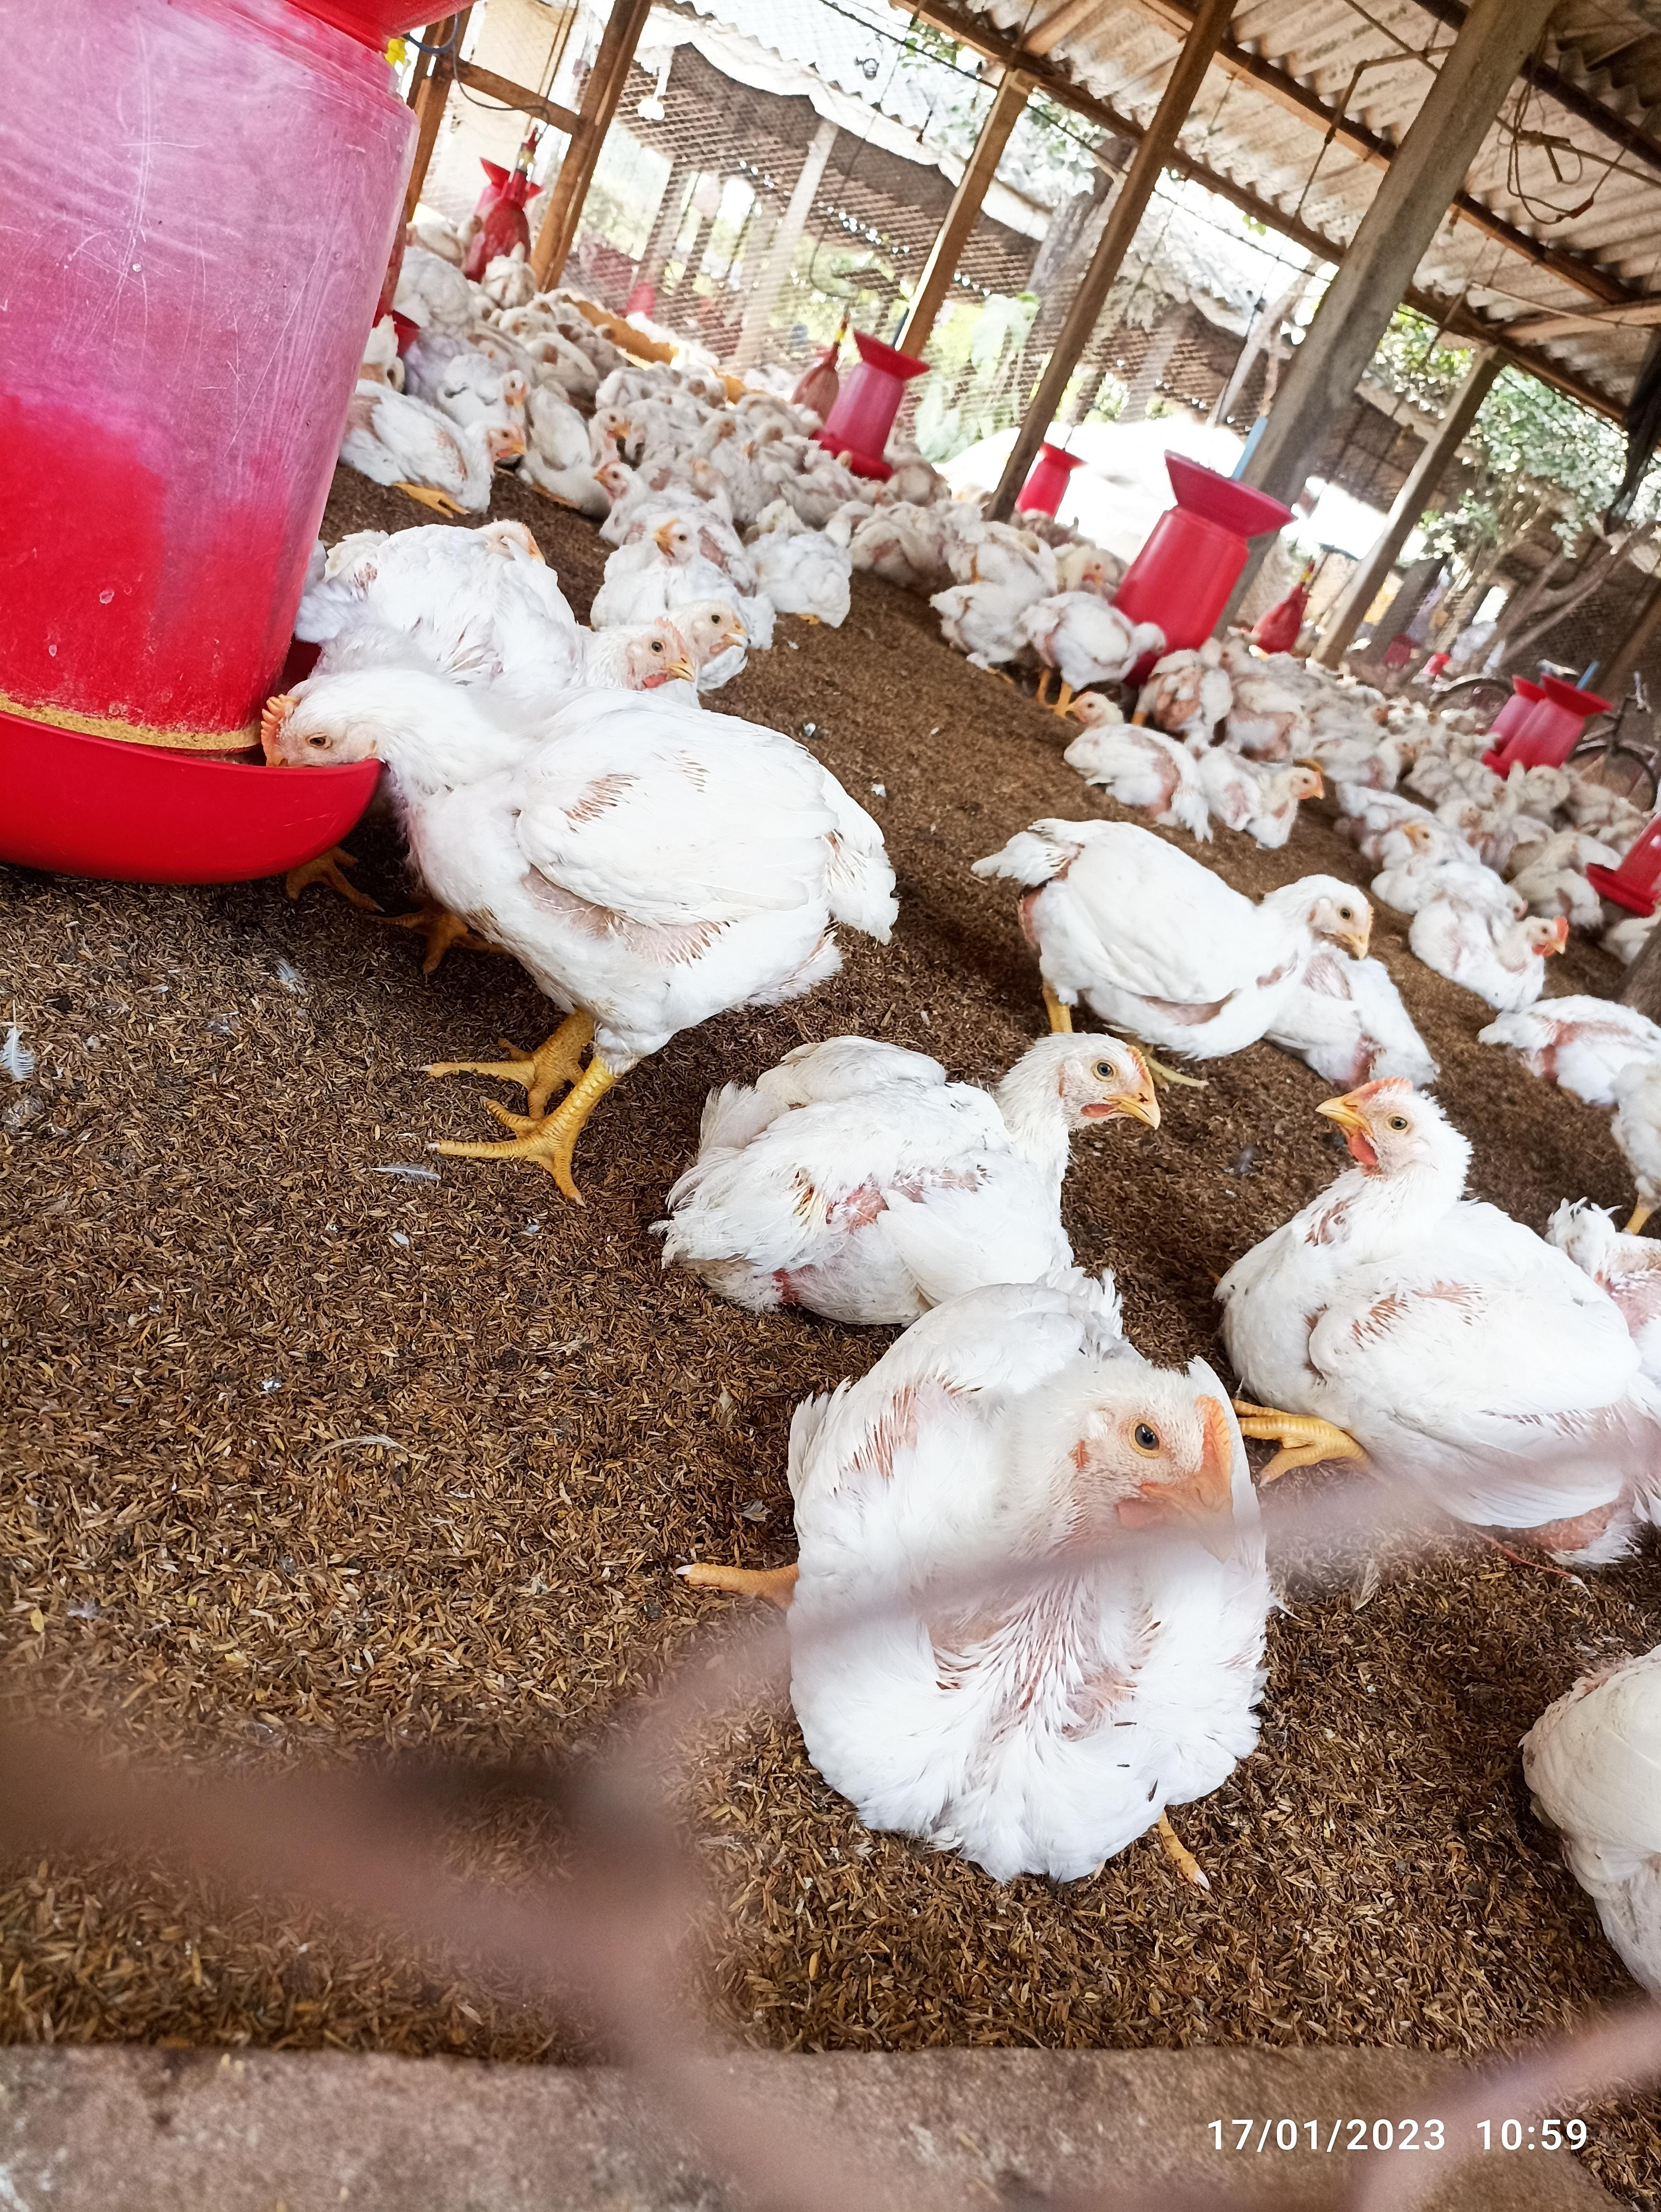Pollos: (797, 1301, 1242, 1858), (262, 665, 876, 1015), (1227, 1078, 1661, 1561), (649, 1038, 1169, 1291), (981, 881, 1474, 1026), (352, 497, 689, 691), (358, 399, 527, 516), (1064, 687, 1209, 813), (1418, 893, 1556, 1015), (743, 506, 848, 635), (1033, 581, 1159, 687), (1356, 820, 1506, 907), (534, 405, 653, 490), (1202, 755, 1324, 832)
